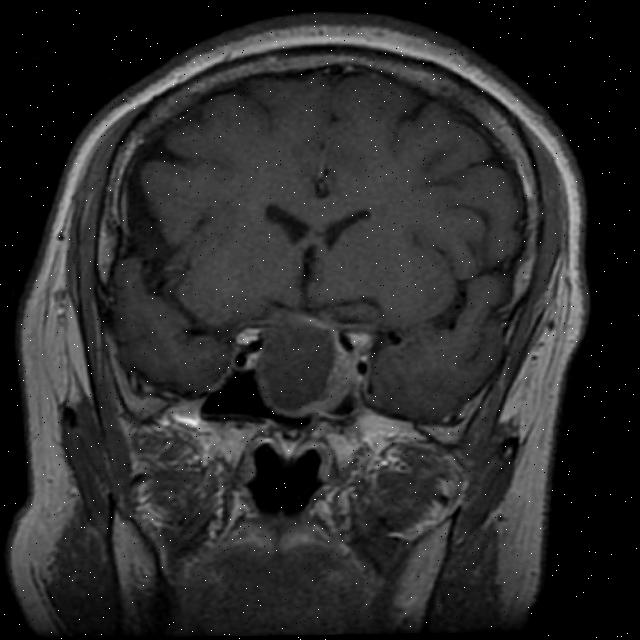Pituitary: (253, 323, 340, 418)
